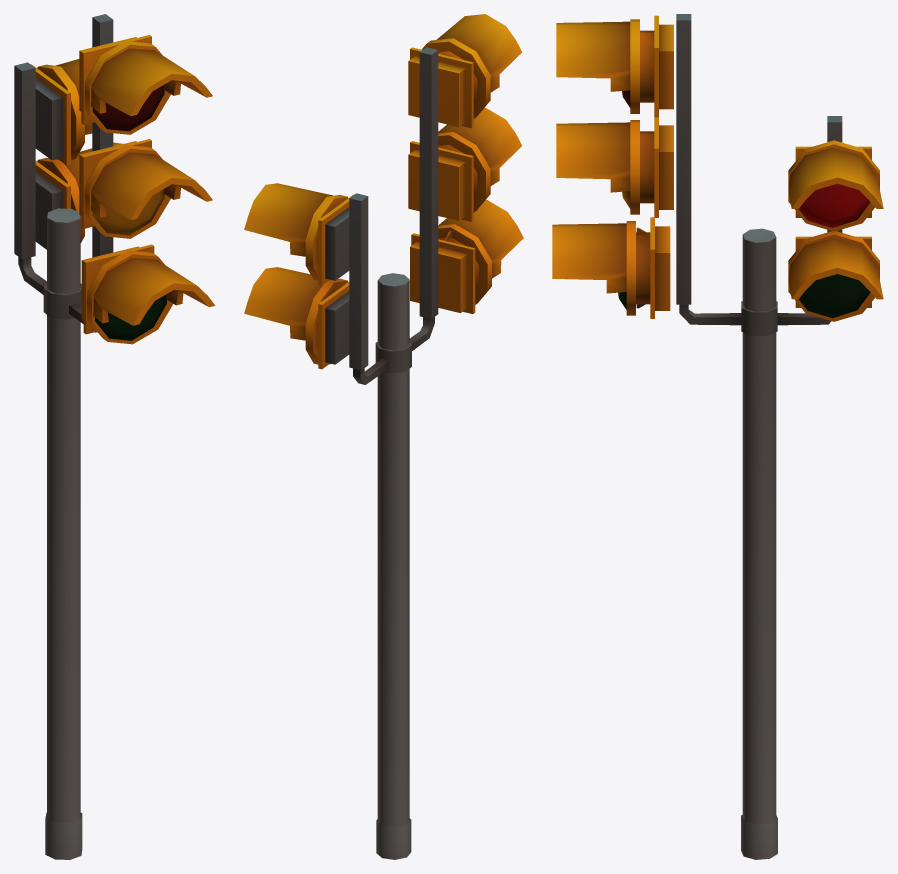
Rendered from TrainTrafficLight_Double.fbx.
The picture shows the model from 3 angles, left to right: view 1: azimuth 30°, elevation 25°; view 2: azimuth 150°, elevation 25°; view 3: azimuth 270°, elevation 25°; orthographic projection. The views are drawn at different scales.
Visible parts, largest first — view 1: TrainTrafficLight_Double; view 2: TrainTrafficLight_Double; view 3: TrainTrafficLight_Double.
Boxes of the visible parts, x1,y1,x2,y2 form: TrainTrafficLight_Double: [14, 14, 215, 859]; TrainTrafficLight_Double: [244, 14, 523, 859]; TrainTrafficLight_Double: [552, 14, 883, 859].
Size of the model in its own units: 65.78 by 378 by 136.
